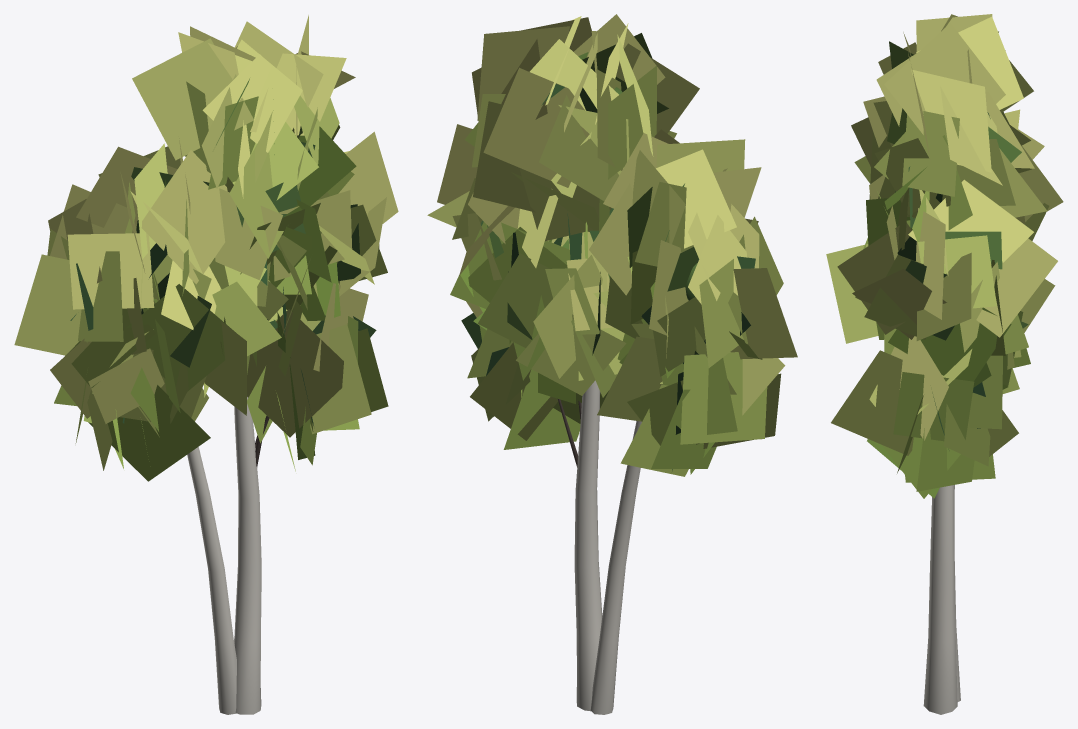
File: Birch.fbx
The picture shows the model from 3 angles, left to right: view 1: azimuth 30°, elevation 25°; view 2: azimuth 150°, elevation 25°; view 3: azimuth 270°, elevation 25°; orthographic projection.
Parts seen in each view (by area): view 1: Birch; view 2: Birch; view 3: Birch.
Part boxes in pixels (x1=…): Birch: x1=14, y1=15, x2=398, y2=714; Birch: x1=427, y1=14, x2=797, y2=714; Birch: x1=826, y1=14, x2=1063, y2=714.
Bounding box in the file's own units: 4.34 × 7.65 × 2.4.
